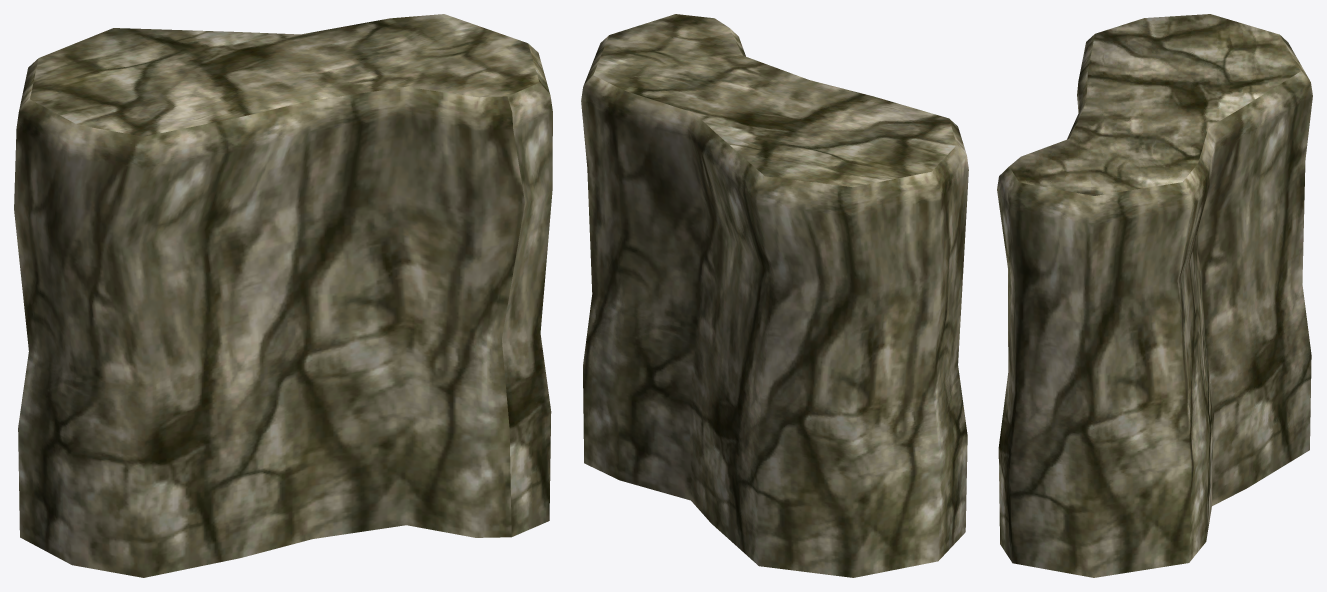
Rendered from CB_PLATFORM04.fbx.
3 views of the same model, side by side, from view 1: azimuth 30°, elevation 25°; view 2: azimuth 150°, elevation 25°; view 3: azimuth 270°, elevation 25° (orthographic). The views are drawn at different scales.
Visible parts, largest first — view 1: CB_PLATFORM04; view 2: CB_PLATFORM04; view 3: CB_PLATFORM04.
Part boxes in pixels (left/top/right/bottom): CB_PLATFORM04: left=14, top=14, right=552, bottom=577; CB_PLATFORM04: left=581, top=14, right=968, bottom=577; CB_PLATFORM04: left=997, top=14, right=1312, bottom=577.
Size of the model in its own units: 41863 by 38280 by 28991.
Materials: 2 (2 with a texture image).
